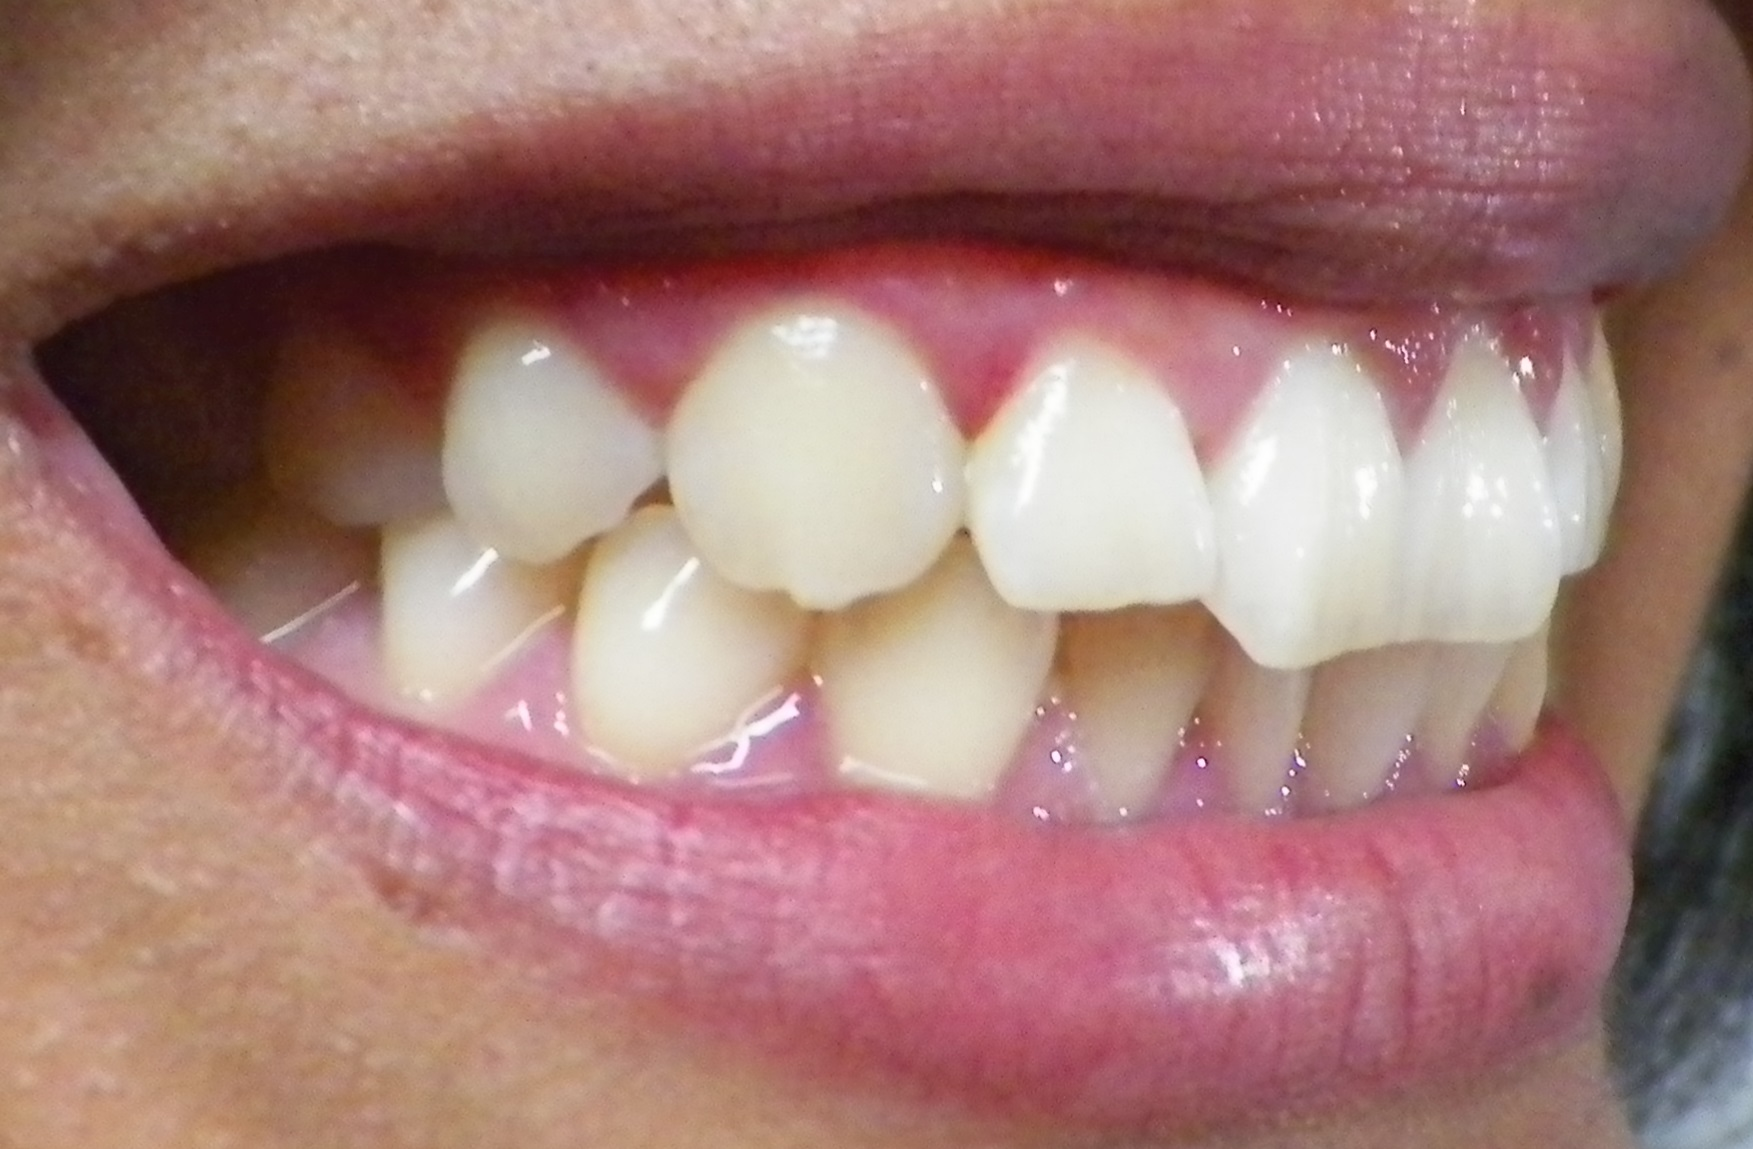boca: (153, 331, 1620, 798)
